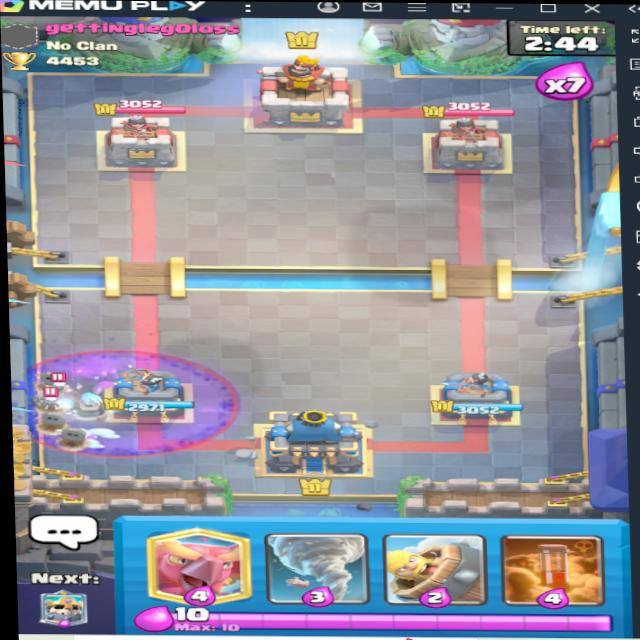graveyard: (11, 336, 244, 462)
skeleton: (46, 373, 77, 395), (38, 389, 66, 410)
